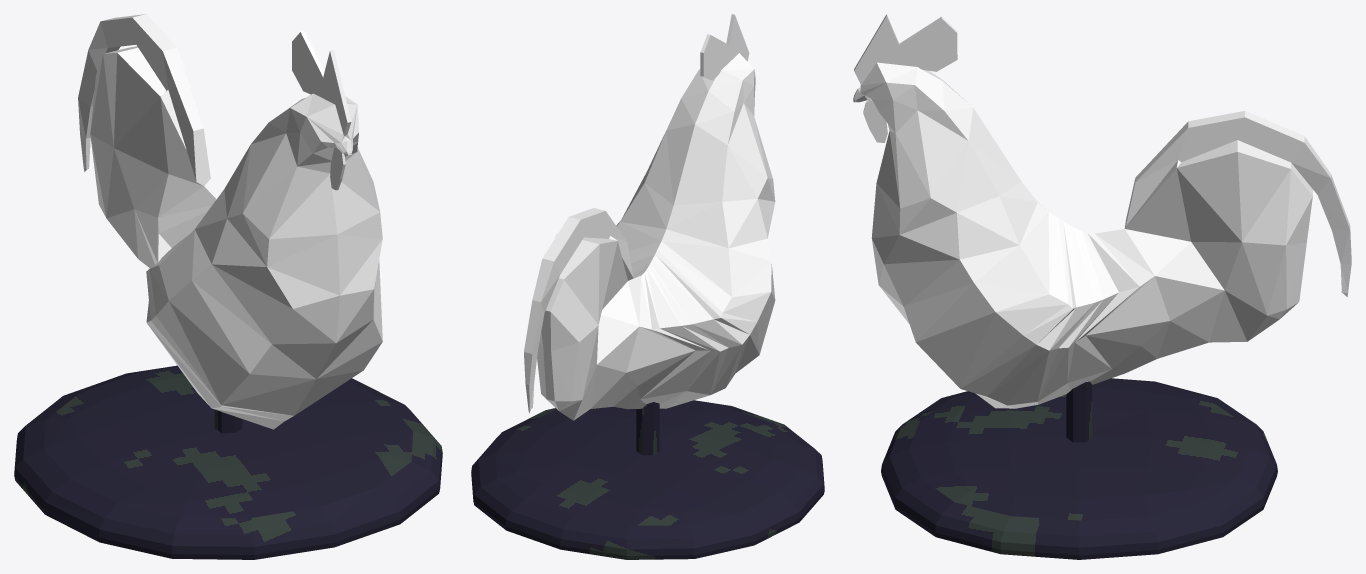
File: UrRooster.obj
The picture shows the model from 3 angles, left to right: view 1: azimuth 30°, elevation 25°; view 2: azimuth 150°, elevation 25°; view 3: azimuth 270°, elevation 25°; orthographic projection. The views are drawn at different scales.
Parts seen in each view (by area): view 1: Rooster_Statue, Base_of_Statue; view 2: Rooster_Statue, Base_of_Statue, Base_Stem_of_Statue; view 3: Rooster_Statue, Base_of_Statue, Base_Stem_of_Statue.
Part boxes in pixels (box(x1,y1,x2,y2)): Rooster_Statue: box(78, 14, 382, 429); Base_of_Statue: box(14, 365, 442, 559); Rooster_Statue: box(524, 14, 775, 420); Base_of_Statue: box(471, 400, 824, 559); Base_Stem_of_Statue: box(636, 402, 659, 455); Rooster_Statue: box(853, 14, 1351, 408); Base_of_Statue: box(881, 378, 1277, 559); Base_Stem_of_Statue: box(1066, 381, 1092, 442).
Size of the model in its own units: 0.9167 by 1.19 by 1.15.
